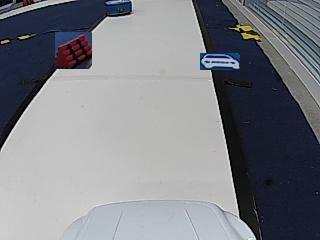prop: (104, 0, 132, 17)
